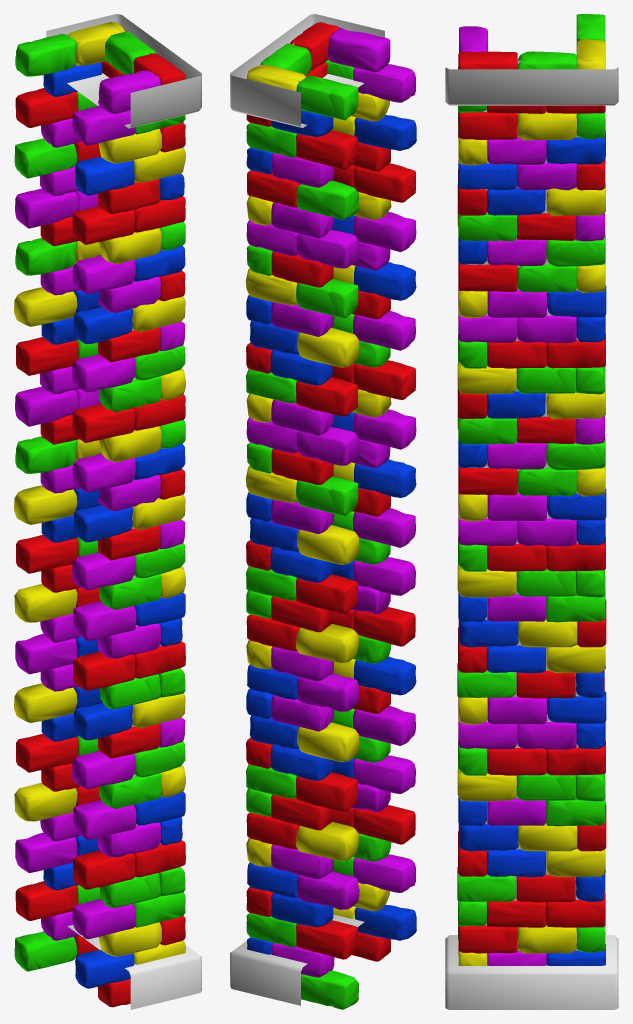
File: column half.fbx
The picture shows the model from 3 angles, left to right: view 1: azimuth 30°, elevation 25°; view 2: azimuth 150°, elevation 25°; view 3: azimuth 270°, elevation 25°; orthographic projection. The views are drawn at different scales.
Visible parts, largest first — view 1: column, edge top, edge bottom; view 2: column, edge top, edge bottom; view 3: column, edge bottom, edge top.
Boxes of the visible parts, <box> form: column: <box>14,22,185,1007</box>; edge top: <box>46,14,201,128</box>; edge bottom: <box>67,925,201,1009</box>; column: <box>245,22,416,1009</box>; edge top: <box>230,14,384,127</box>; edge bottom: <box>230,914,364,1005</box>; column: <box>457,14,606,965</box>; edge bottom: <box>445,935,618,1009</box>; edge top: <box>445,67,618,105</box>.
Bounding box in the file's own units: 89.67 × 701 × 117.
